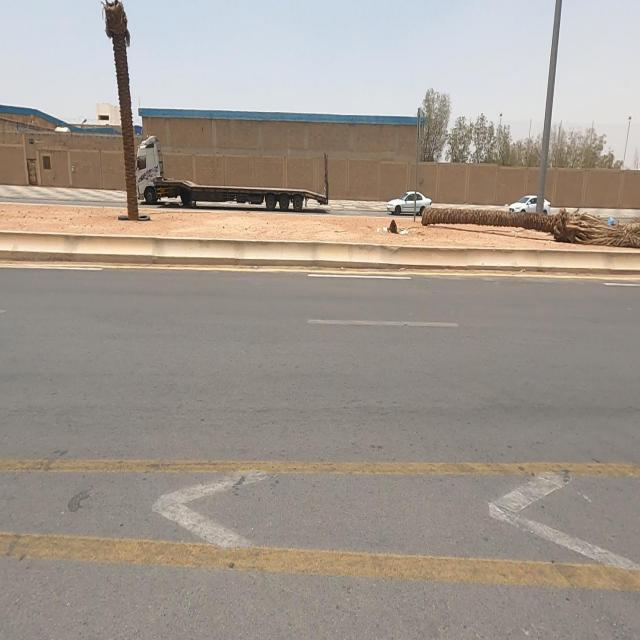debris: (348, 192, 446, 272), (581, 188, 640, 258)
